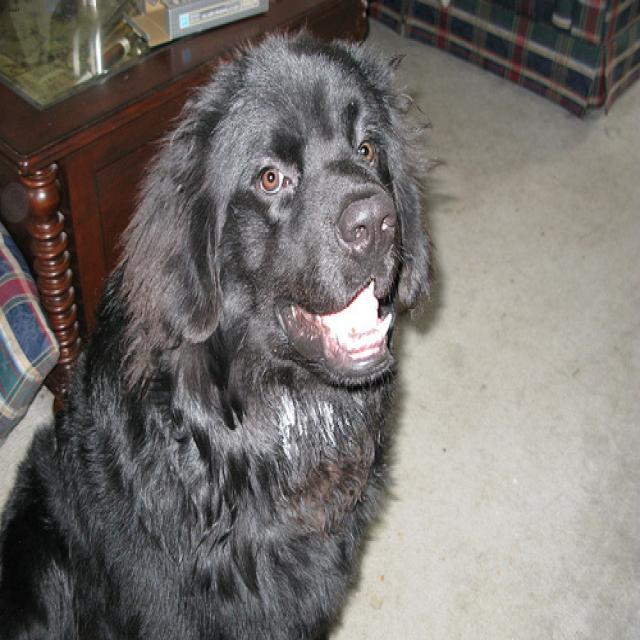dog-newfoundland: (1, 10, 445, 637)
